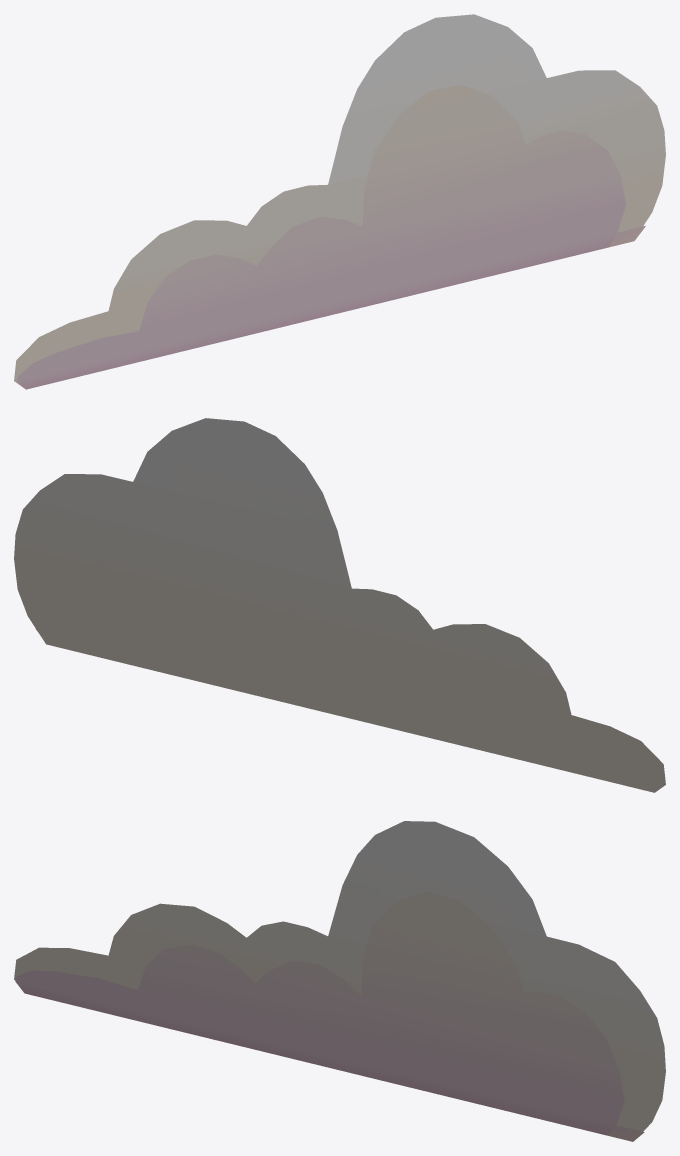
File: cloud.glb
3 views of the same model, one above another, from view 1: azimuth 30°, elevation 25°; view 2: azimuth 150°, elevation 25°; view 3: azimuth 330°, elevation 25° (orthographic).
Parts seen in each view (by area): view 1: cloud; view 2: cloud; view 3: cloud.
Boxes of the visible parts, x1=… form: cloud: x1=14, y1=14, x2=665, y2=389; cloud: x1=14, y1=418, x2=665, y2=792; cloud: x1=14, y1=821, x2=665, y2=1141.
Size of the model in its own units: 5.19 by 2.06 by 0.01.
